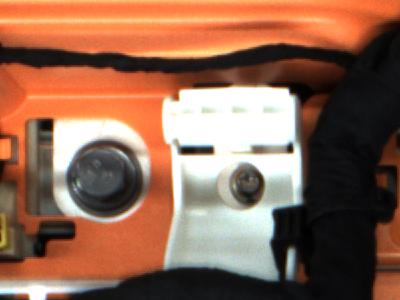nut_b: (61, 142, 149, 219)
